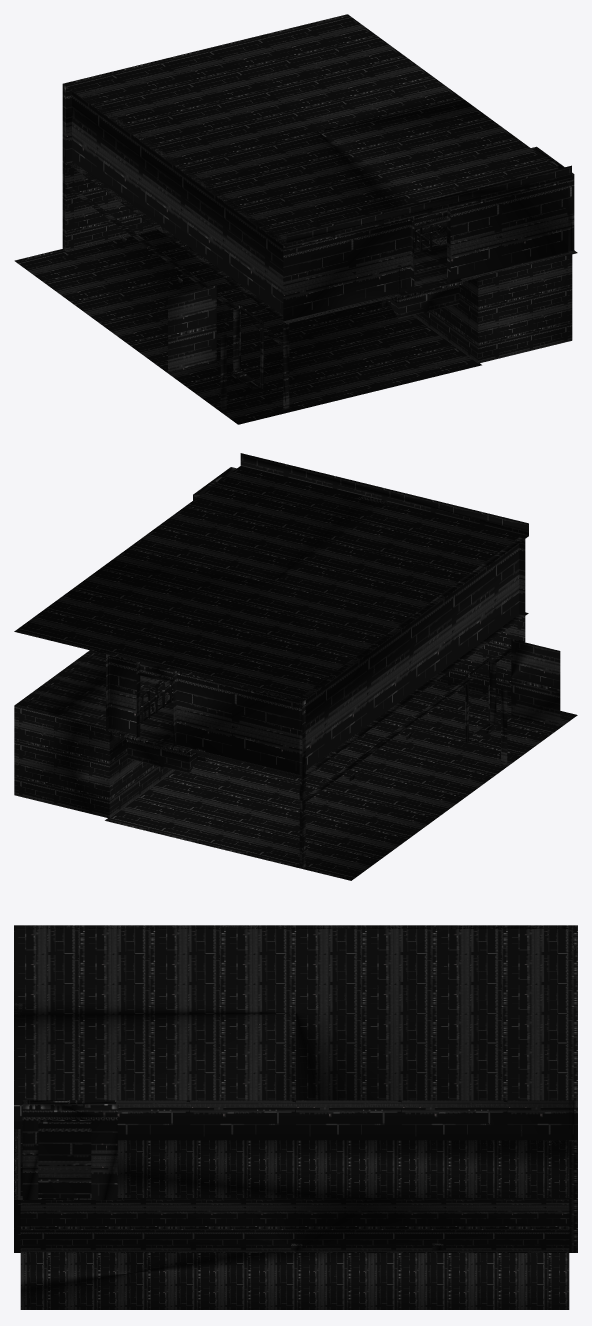
File: room2pit_opt.obj
3 renders of one model, top to bottom at view 1: azimuth 30°, elevation 25°; view 2: azimuth 150°, elevation 25°; view 3: azimuth 270°, elevation 25°, orthographic. The views are drawn at different scales.
Bounding box in the file's own units: 89.6 × 44.8 × 102.
8 materials, 8 textured.
